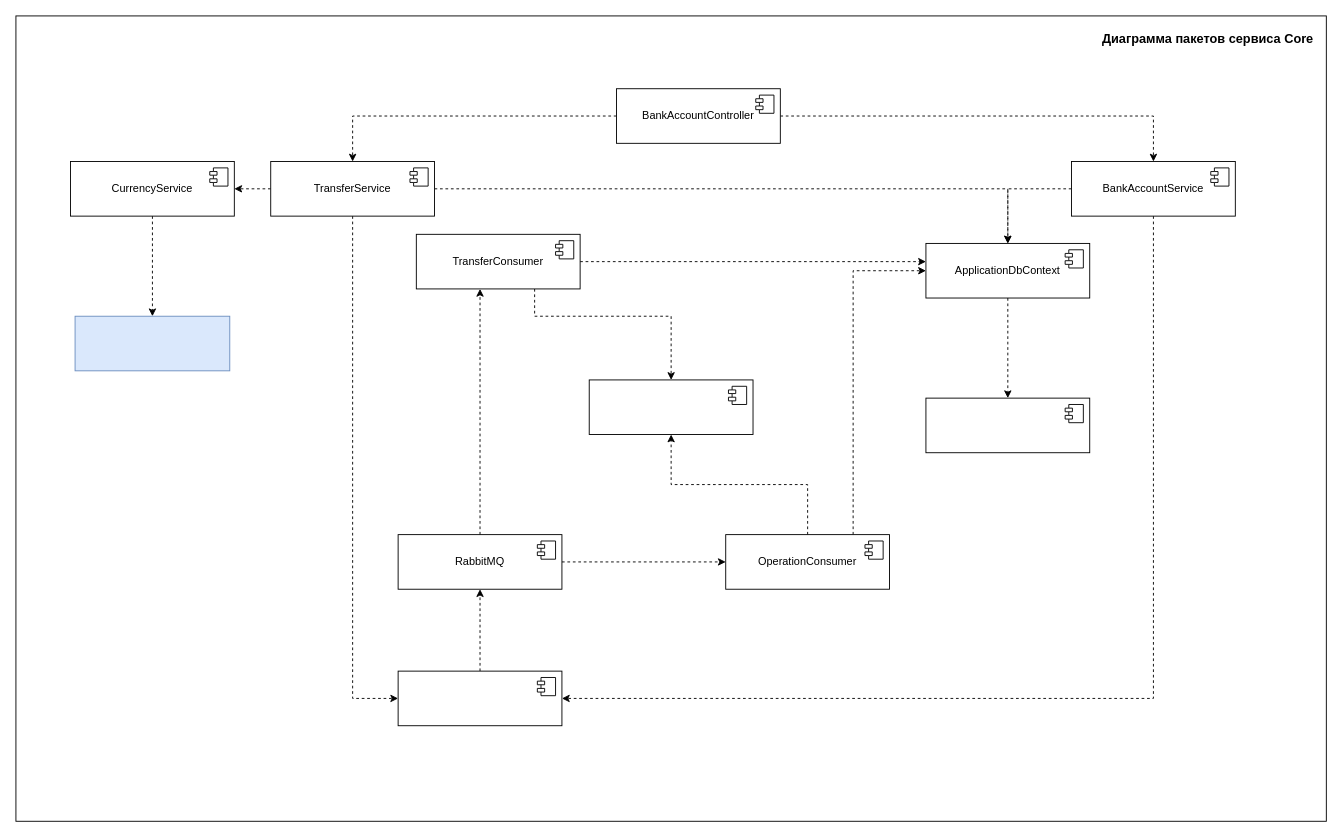
Image size: 1342x837. Some labels were removed from this diagram. Each missing label, with the box of its shape:
BankHub (SignalR): (588, 379, 753, 435)
Database: (925, 397, 1090, 453)
External API (exchangerate-api.com): (74, 315, 230, 371)
RabbitMqPublisher: (397, 670, 562, 726)
